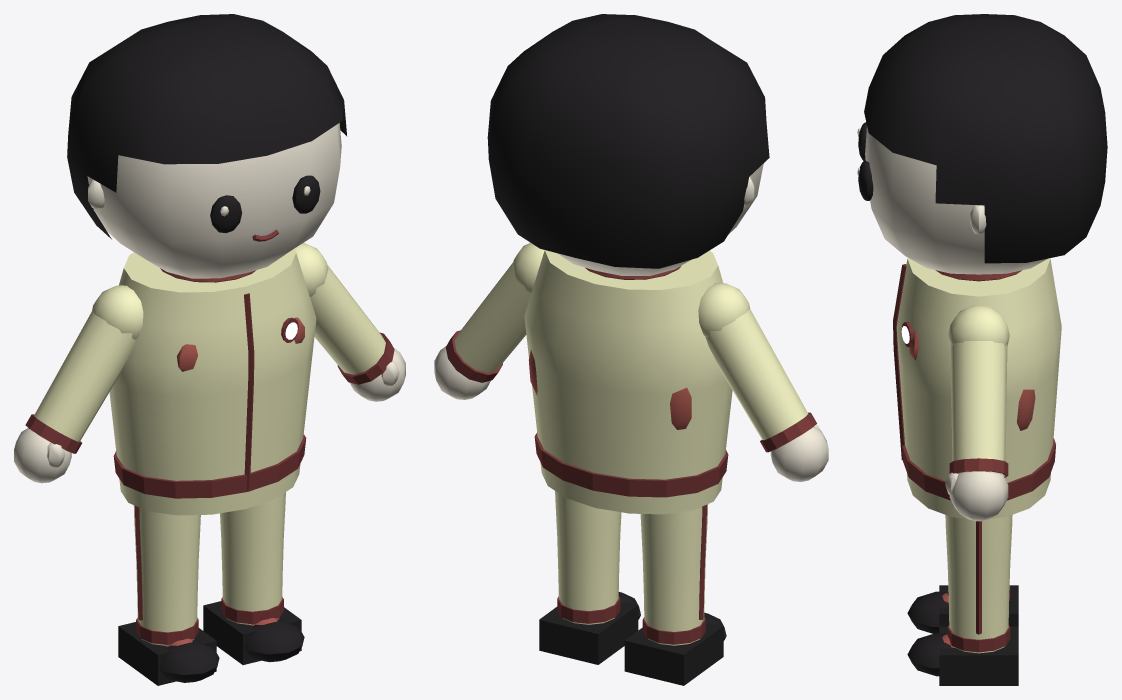
Rendered from vigil-body.glb.
3 renders of one model, left to right at view 1: azimuth 30°, elevation 25°; view 2: azimuth 150°, elevation 25°; view 3: azimuth 270°, elevation 25°, orthographic.
Parts seen in each view (by area): view 1: Suit_Torso, Suit_Hair, Suit_Head, Suit_Sleeve_R, Suit_Leg_R, Suit_Leg_L, Suit_Sleeve_L, Suit_Boot_R, Suit_Boot_L, Suit_Belt, Suit_Hand_R, Suit_Hand_L (+9 smaller); view 2: Suit_Hair, Suit_Torso, Suit_Sleeve_R, Suit_Leg_R, Suit_Leg_L, Suit_Sleeve_L, Suit_Boot_R, Suit_Boot_L, Suit_Belt, Suit_Hand_R, Suit_Hand_L, Suit_Head (+6 smaller); view 3: Suit_Hair, Suit_Torso, Suit_Head, Suit_Sleeve_L, Suit_Leg_L, Suit_Boot_L, Suit_Hand_L, Suit_Belt, Suit_Boot_R, Suit_Zip, Suit_LegCuff_L, Suit_Cuff_L (+5 smaller).
Part boxes in pixels (<box>): Suit_Torso: <box>109,249,316,515</box>; Suit_Hair: <box>67,14,347,239</box>; Suit_Head: <box>87,123,341,278</box>; Suit_Sleeve_R: <box>31,285,143,452</box>; Suit_Leg_R: <box>133,505,200,645</box>; Suit_Leg_L: <box>220,492,285,624</box>; Suit_Sleeve_L: <box>294,242,385,374</box>; Suit_Boot_R: <box>118,622,219,685</box>; Suit_Boot_L: <box>203,601,304,664</box>; Suit_Belt: <box>113,434,306,498</box>; Suit_Hand_R: <box>14,428,71,483</box>; Suit_Hand_L: <box>349,348,405,401</box>; Suit_Hair: <box>487,14,769,268</box>; Suit_Torso: <box>524,250,732,514</box>; Suit_Sleeve_R: <box>698,282,811,451</box>; Suit_Leg_R: <box>640,504,708,645</box>; Suit_Leg_L: <box>555,491,621,624</box>; Suit_Sleeve_L: <box>454,243,544,372</box>; Suit_Boot_R: <box>624,612,726,685</box>; Suit_Boot_L: <box>539,592,640,664</box>; Suit_Belt: <box>534,432,728,497</box>; Suit_Hand_R: <box>770,425,828,481</box>; Suit_Hand_L: <box>434,346,490,399</box>; Suit_Head: <box>557,164,763,275</box>; Suit_Hair: <box>864,14,1107,263</box>; Suit_Torso: <box>896,258,1061,518</box>; Suit_Head: <box>865,126,1047,274</box>; Suit_Sleeve_L: <box>948,305,1009,476</box>; Suit_Leg_L: <box>945,515,1012,653</box>; Suit_Boot_L: <box>907,626,1018,685</box>; Suit_Hand_L: <box>945,471,1008,521</box>; Suit_Belt: <box>902,438,1055,500</box>; Suit_Boot_R: <box>907,585,1018,633</box>; Suit_Zip: <box>893,264,906,460</box>; Suit_LegCuff_L: <box>947,625,1010,652</box>; Suit_Cuff_L: <box>949,458,1008,477</box>.
Size of the model in its own units: 1.14 by 1.75 by 0.6458.
